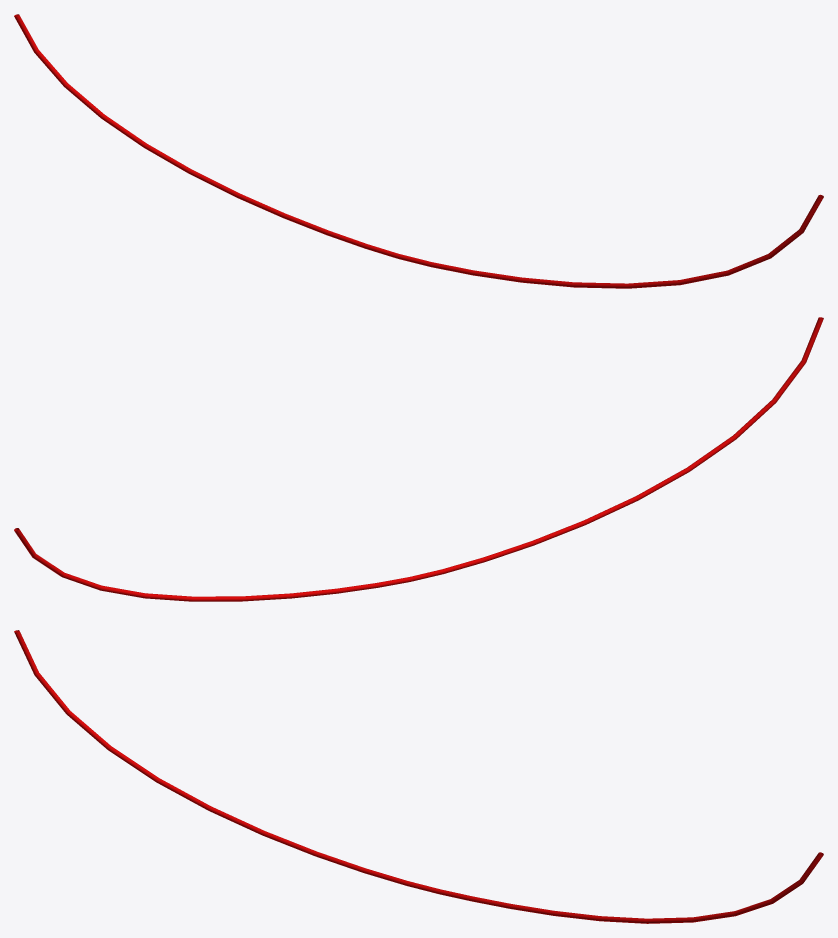
The model's file is Attic_Cable_01_LP_Splines_20.glb.
3 renders of one model, top to bottom at view 1: azimuth 90°, elevation 25°; view 2: azimuth 150°, elevation 25°; view 3: azimuth 270°, elevation 25°, orthographic.
Parts seen in each view (by area): view 1: Attic_Cable_01_LP_Splines_20; view 2: Attic_Cable_01_LP_Splines_20; view 3: Attic_Cable_01_LP_Splines_20.
Part boxes in pixels (x1,y1,x2,y2): Attic_Cable_01_LP_Splines_20: (14, 14, 823, 288); Attic_Cable_01_LP_Splines_20: (14, 317, 823, 601); Attic_Cable_01_LP_Splines_20: (14, 630, 823, 923).
Bounding box in the file's own units: 1.93 × 0.7221 × 3.25.
